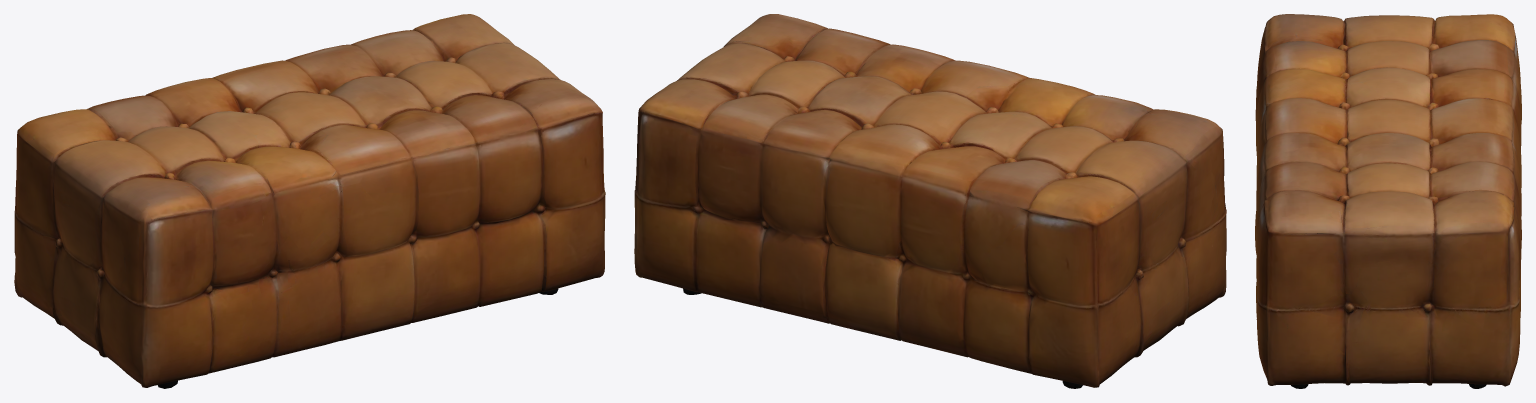
The picture shows the model from 3 angles, left to right: view 1: azimuth 30°, elevation 25°; view 2: azimuth 150°, elevation 25°; view 3: azimuth 270°, elevation 25°; orthographic projection. The views are drawn at different scales.
Visible parts, largest first — view 1: geometry_0; view 2: geometry_0; view 3: geometry_0.
Part boxes in pixels (x1,y1,x2,y2): geometry_0: (14,14,605,388); geometry_0: (634,14,1226,388); geometry_0: (1255,14,1521,388).
Bounding box in the file's own units: 0.9981 × 0.4043 × 0.5173.
Materials: 1 (1 with a texture image).
